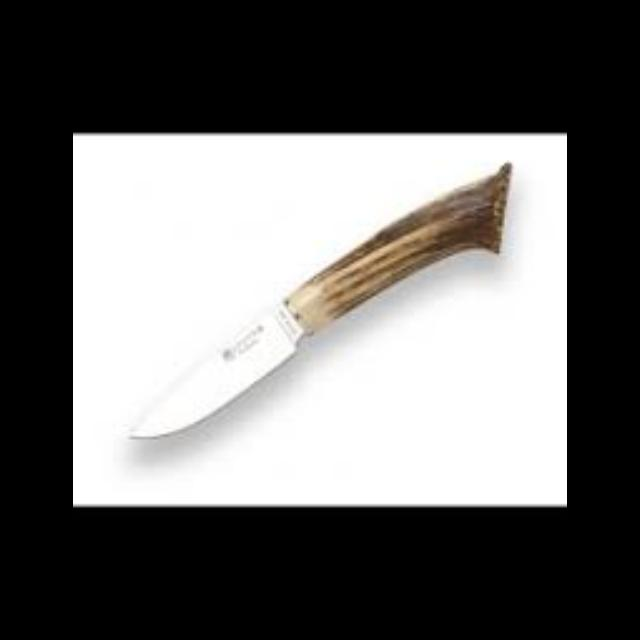knife: (126, 158, 512, 440)
